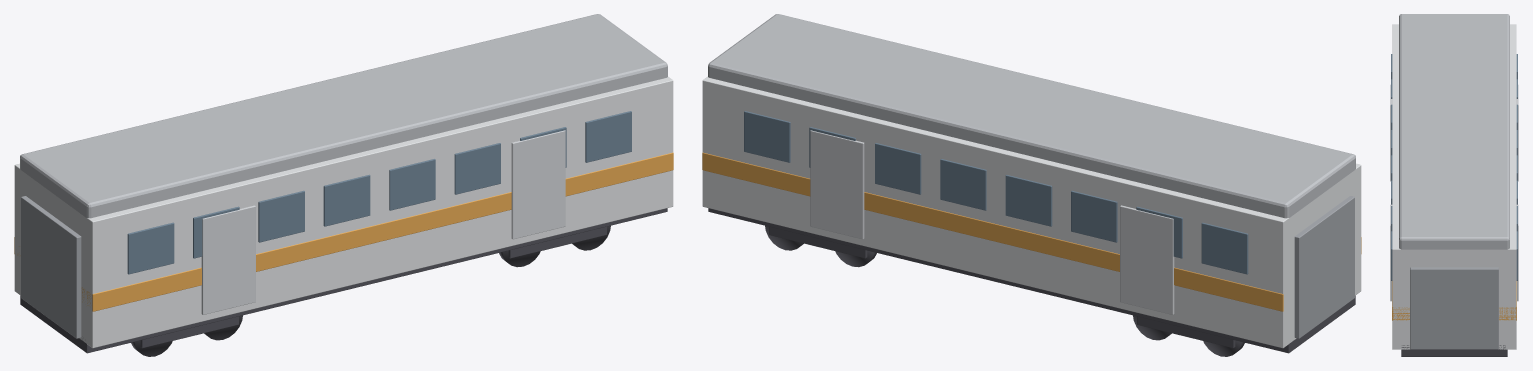
Rendered from train_carriage.glb.
3 views of the same model, side by side, from view 1: azimuth 30°, elevation 25°; view 2: azimuth 150°, elevation 25°; view 3: azimuth 270°, elevation 25° (orthographic). The views are drawn at different scales.
Visible parts, largest first — view 1: car_body, car_roof, car_band, car_end_b, car_door_b3.2, car_door_b-3.2, car_underframe, car_win_b3, car_win_b0, car_win_b7, car_win_b2, car_win_b4 (+4 smaller); view 2: car_body, car_roof, car_band, car_end_b, car_door_a3.2, car_door_a-3.2, car_underframe, car_win_a3, car_win_a0, car_win_a2, car_win_a7, car_win_a4 (+4 smaller); view 3: car_roof, car_body, car_end_a, car_underframe, car_band, car_door_a3.2, car_door_b3.2.
Boxes of the visible parts, bbox=[...] form: car_body: bbox=[14, 76, 673, 348]; car_roof: bbox=[20, 14, 667, 218]; car_band: bbox=[14, 152, 673, 311]; car_end_b: bbox=[21, 196, 81, 338]; car_door_b3.2: bbox=[511, 130, 565, 239]; car_door_b-3.2: bbox=[201, 205, 255, 314]; car_underframe: bbox=[20, 208, 667, 353]; car_win_b3: bbox=[323, 174, 370, 226]; car_win_b0: bbox=[127, 222, 174, 274]; car_win_b7: bbox=[585, 111, 631, 162]; car_win_b2: bbox=[258, 190, 304, 242]; car_win_b4: bbox=[389, 159, 435, 210]; car_body: bbox=[702, 76, 1361, 348]; car_roof: bbox=[708, 14, 1355, 218]; car_band: bbox=[702, 152, 1361, 311]; car_end_b: bbox=[1294, 196, 1354, 338]; car_door_a3.2: bbox=[810, 130, 864, 239]; car_door_a-3.2: bbox=[1120, 205, 1174, 314]; car_underframe: bbox=[708, 208, 1355, 353]; car_win_a3: bbox=[1005, 174, 1052, 226]; car_win_a0: bbox=[1201, 222, 1248, 274]; car_win_a2: bbox=[1071, 190, 1117, 242]; car_win_a7: bbox=[744, 111, 790, 162]; car_win_a4: bbox=[940, 159, 986, 210]; car_roof: bbox=[1399, 14, 1509, 249]; car_body: bbox=[1392, 24, 1516, 349]; car_end_a: bbox=[1410, 267, 1498, 349]; car_underframe: bbox=[1401, 345, 1507, 356]; car_band: bbox=[1392, 281, 1516, 320]; car_door_a3.2: bbox=[1516, 204, 1518, 301]; car_door_b3.2: bbox=[1390, 204, 1392, 301].
Size of the model in its own units: 12.2 by 3.43 by 2.89.
